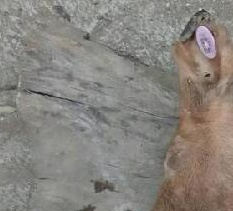text: (181, 20, 232, 66)
